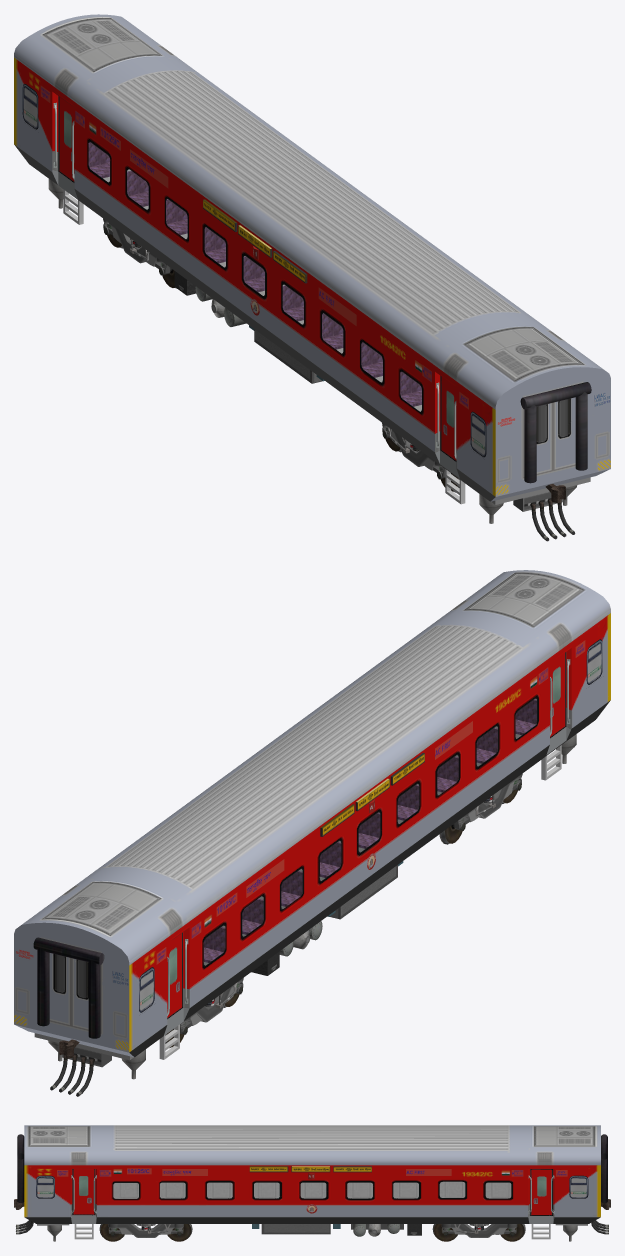
Rendered from lhb_ac1.glb.
3 renders of one model, top to bottom at view 1: azimuth 30°, elevation 25°; view 2: azimuth 150°, elevation 25°; view 3: azimuth 270°, elevation 25°, orthographic. The views are drawn at different scales.
Visible parts, largest first — view 1: coach; view 2: coach; view 3: coach.
Part boxes in pixels (x1=…): coach: x1=14, y1=14, x2=610, y2=541; coach: x1=14, y1=570, x2=610, y2=1096; coach: x1=14, y1=1125, x2=610, y2=1241.
Bounding box in the file's own units: 3.12 × 4.19 × 22.5.
Materials: 9 (8 with a texture image).
